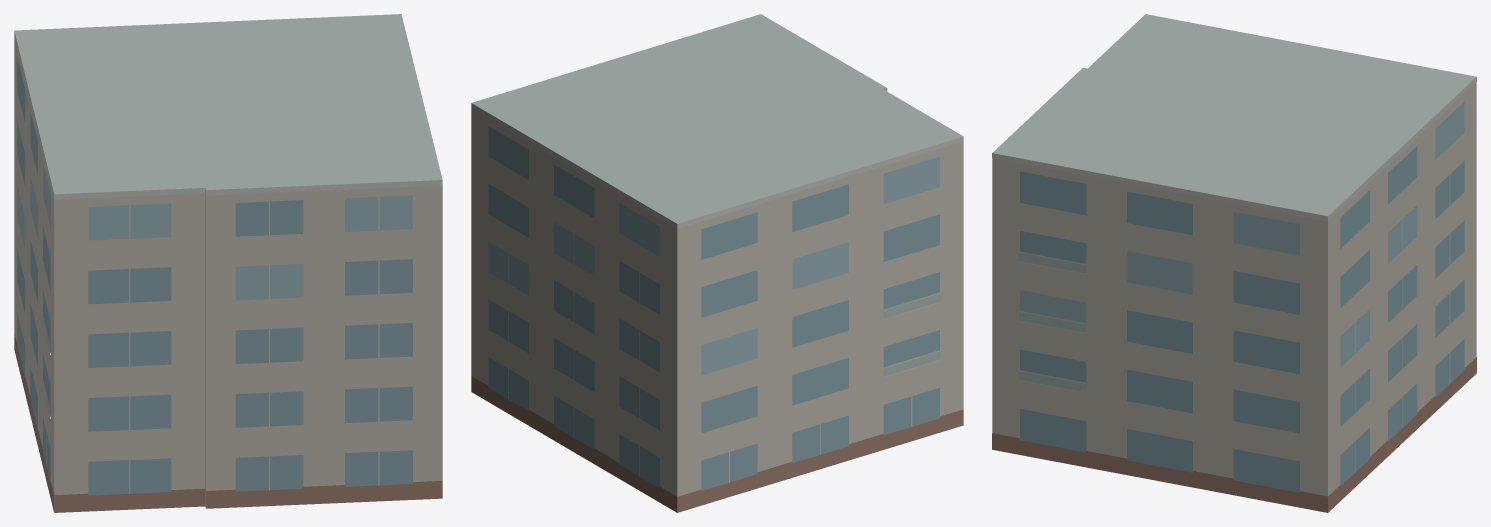
File: survey-upis-32983186.glb
3 renders of one model, left to right at view 1: azimuth 30°, elevation 25°; view 2: azimuth 150°, elevation 25°; view 3: azimuth 270°, elevation 25°, orthographic. The views are drawn at different scales.
Visible parts, largest first — view 1: survey-upis-32983186.tmp; view 2: survey-upis-32983186.tmp; view 3: survey-upis-32983186.tmp.
Boxes of the visible parts, box(x1,y1,x2,y2) form: survey-upis-32983186.tmp: box(14, 14, 442, 512); survey-upis-32983186.tmp: box(471, 14, 963, 512); survey-upis-32983186.tmp: box(992, 14, 1476, 512).
Size of the model in its own units: 20.48 by 14 by 20.74.
